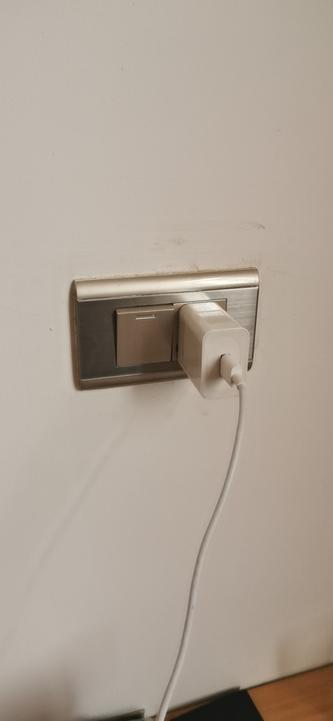switch: (108, 299, 185, 372)
